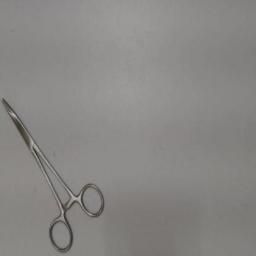Crile Artery Forceps: (0, 92, 108, 254)
